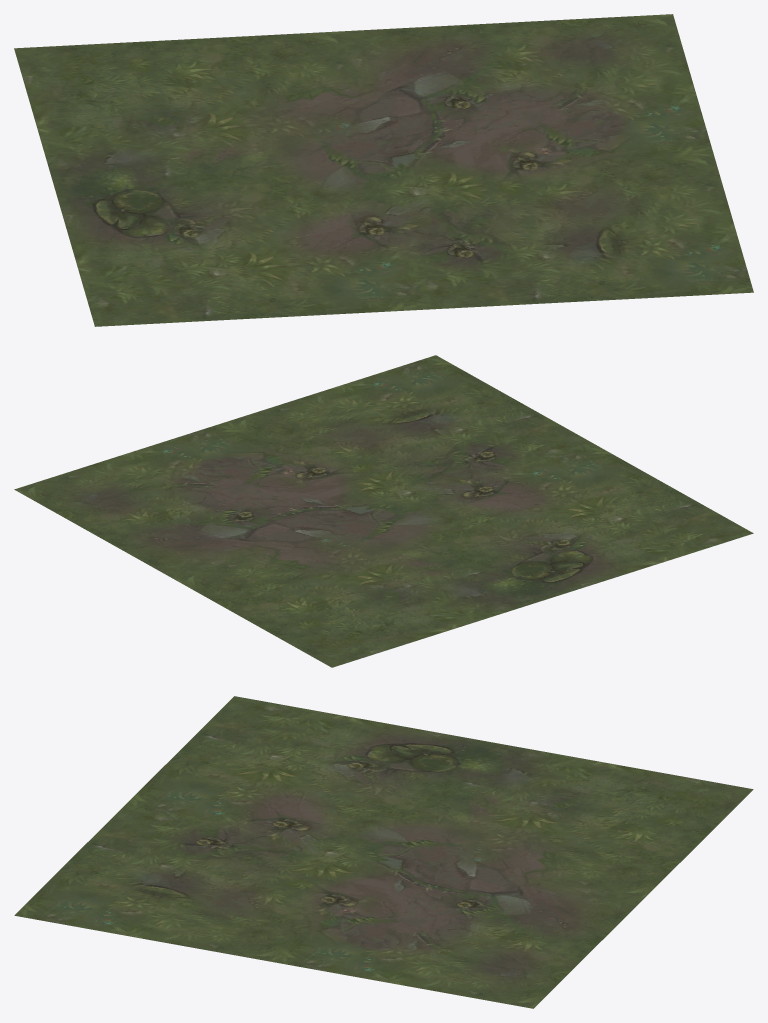
The model's file is tiepian_01.FBX.
3 renders of one model, top to bottom at view 1: azimuth 30°, elevation 25°; view 2: azimuth 150°, elevation 25°; view 3: azimuth 270°, elevation 25°, orthographic. The views are drawn at different scales.
Parts seen in each view (by area): view 1: segment_0; view 2: segment_0; view 3: segment_0.
Boxes of the visible parts, x1=… form: segment_0: x1=14, y1=14, x2=753, y2=326; segment_0: x1=14, y1=355, x2=753, y2=667; segment_0: x1=14, y1=696, x2=753, y2=1008.
Size of the model in its own units: 166 by 9.35e-05 by 166.
1 material, 1 textured.
